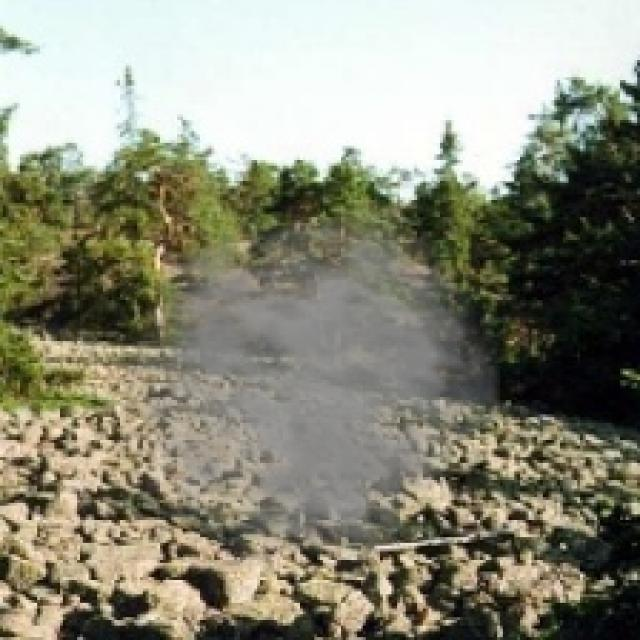smoke: (88, 200, 503, 586)
